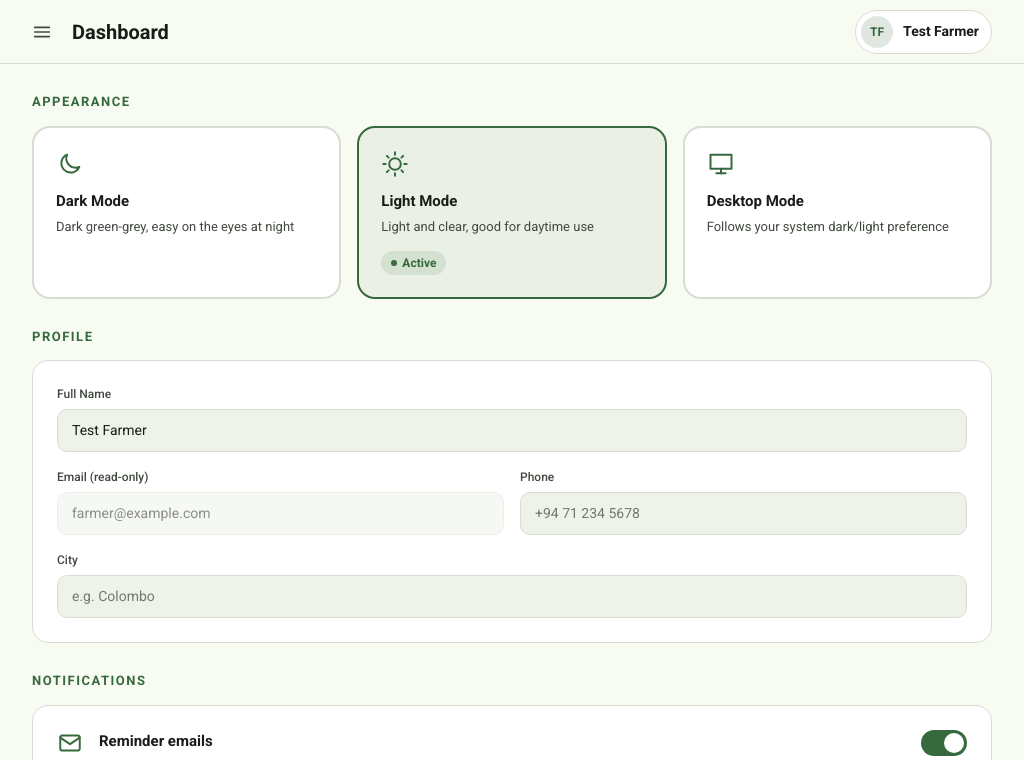
SettingsPage theme › goes back to the old theme when saving fails
Click the button "Dark Mode Dark green-grey, easy on the eyes at night": [93, 200] box [32,126,341,298]
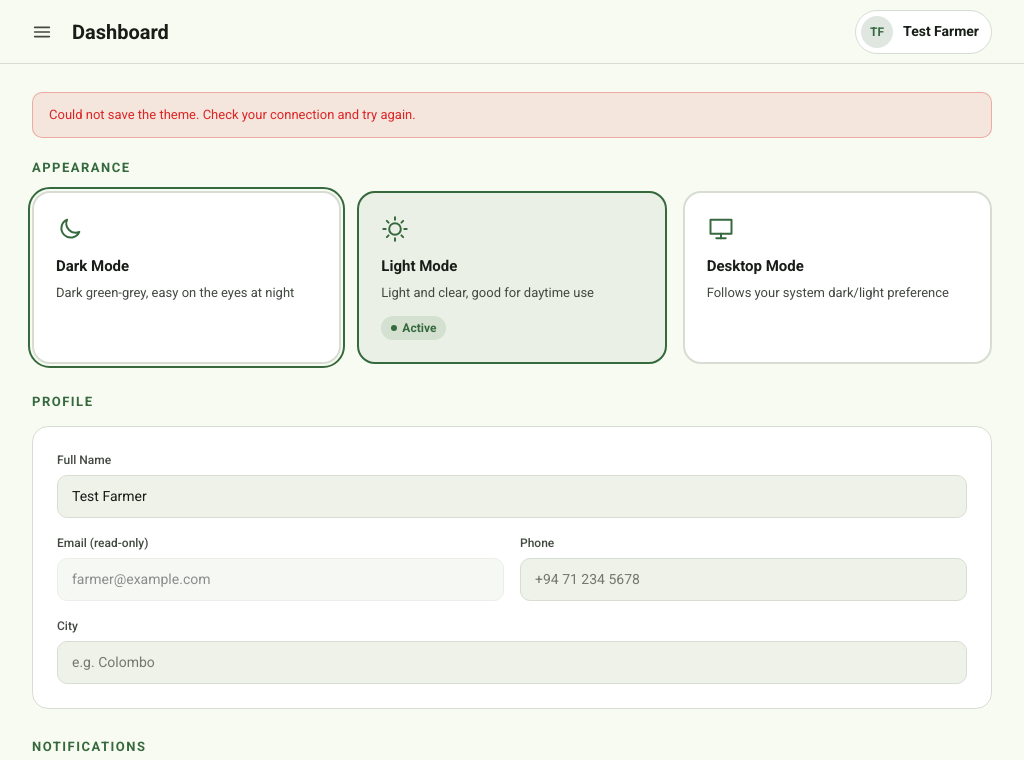
Now the text "Could not save the theme" is shown, box [49,107,416,122]
